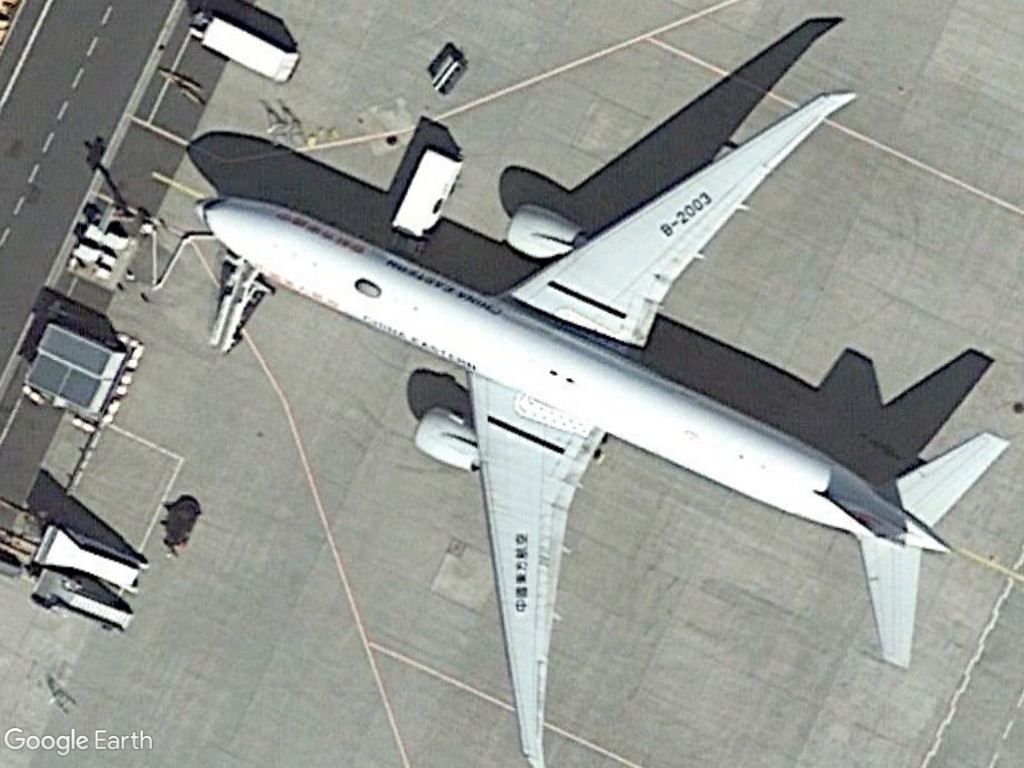airliner: (157, 84, 1019, 768)
